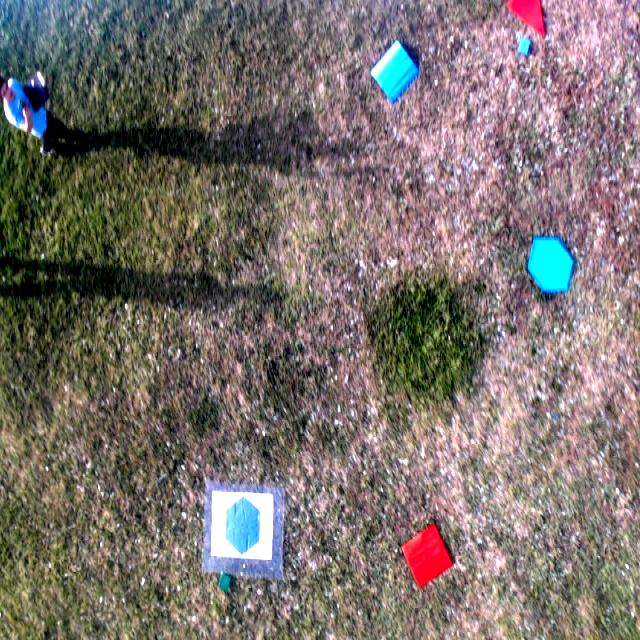blue_hexagon: (524, 234, 576, 298), (224, 495, 262, 554)
blue_square: (369, 40, 421, 104)
red_square: (400, 522, 454, 591)
